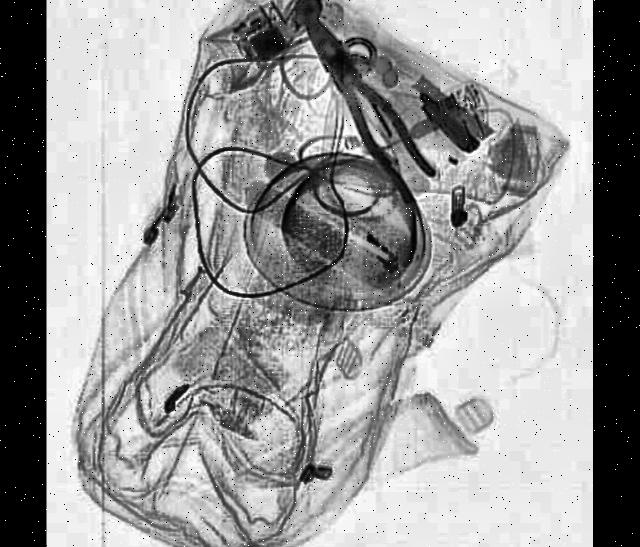Pliers: (289, 1, 438, 210)
